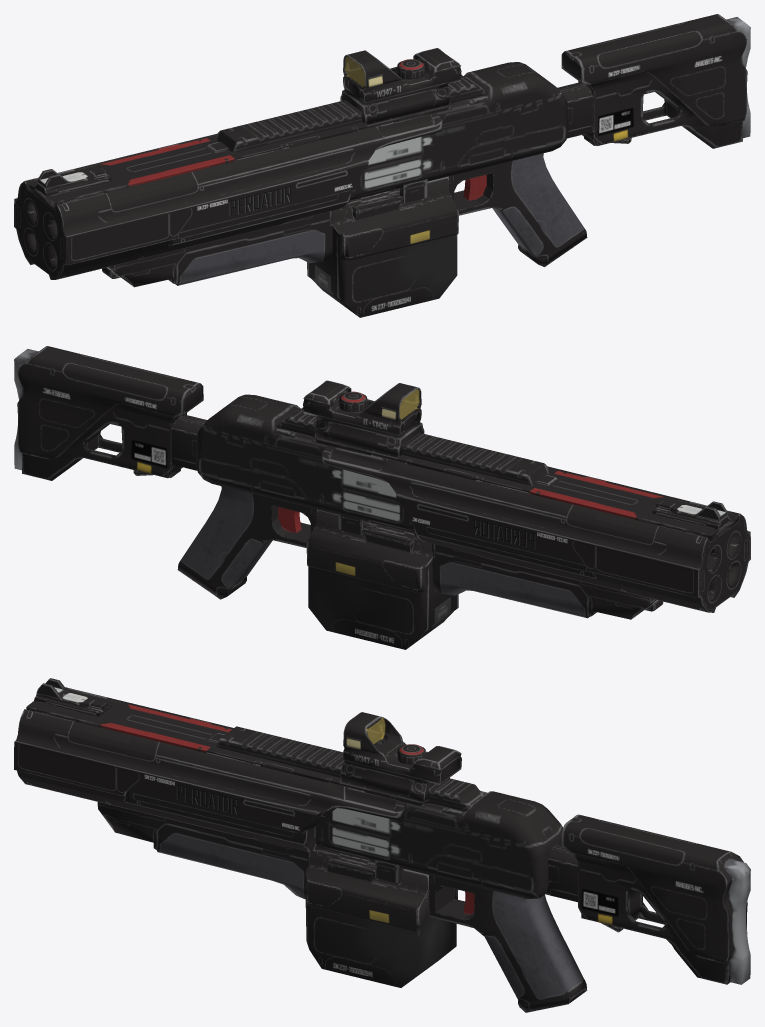
The model's file is primary-handgun.glb.
The picture shows the model from 3 angles, top to bottom: view 1: azimuth 30°, elevation 25°; view 2: azimuth 150°, elevation 25°; view 3: azimuth 330°, elevation 25°; orthographic projection.
Parts seen in each view (by area): view 1: Object_2; view 2: Object_2; view 3: Object_2.
Boxes of the visible parts, <box> form: Object_2: <box>14,14,750,317</box>; Object_2: <box>14,346,750,649</box>; Object_2: <box>14,678,750,1012</box>.
Size of the model in its own units: 1.5 by 0.4982 by 0.1966.
1 material, 1 textured.
